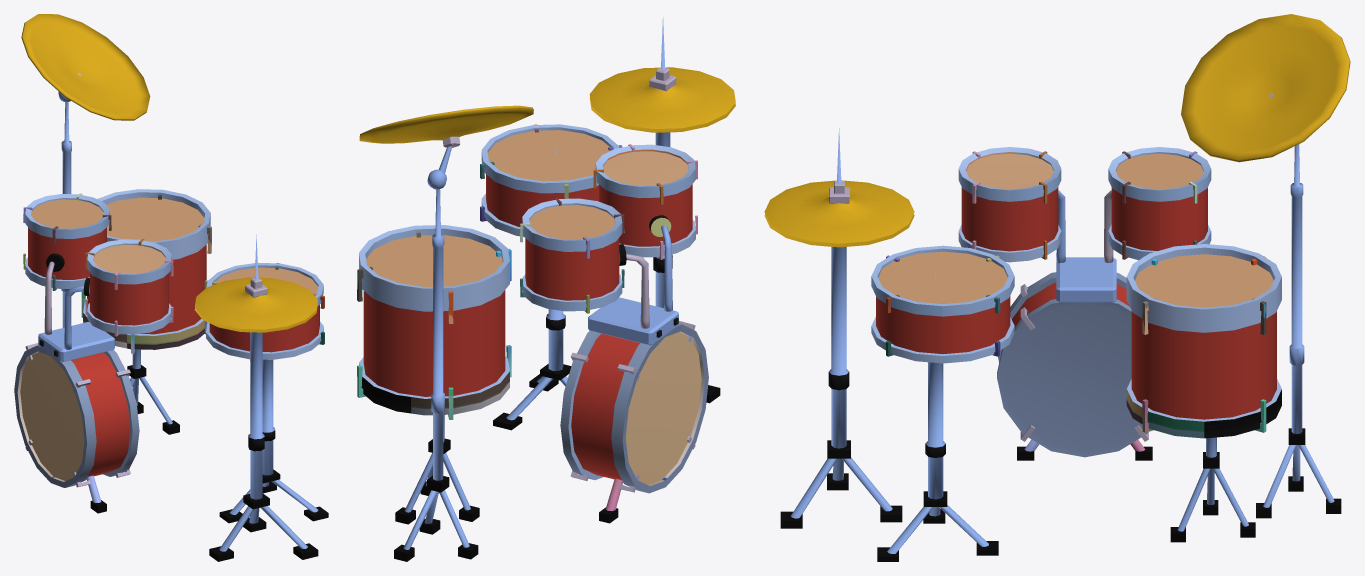
File: BARABANI.fbx
3 views of the same model, side by side, from view 1: azimuth 30°, elevation 25°; view 2: azimuth 150°, elevation 25°; view 3: azimuth 270°, elevation 25° (orthographic). The views are drawn at different scales.
Parts seen in each view (by area): view 1: Cylinder.016; view 2: Cylinder.016; view 3: Cylinder.016.
Boxes of the visible parts, box(x1,y1,x2,y2) form: Cylinder.016: box(14, 14, 328, 561); Cylinder.016: box(357, 17, 735, 561); Cylinder.016: box(764, 14, 1350, 561).
Bounding box in the file's own units: 404 × 721 × 812.
